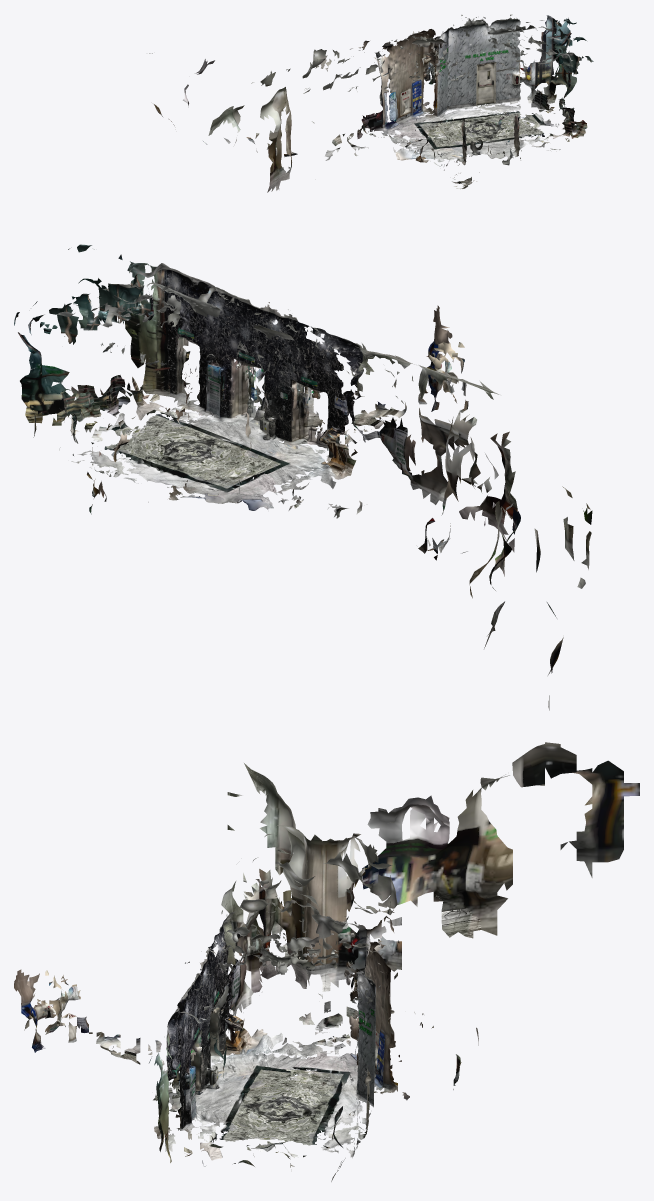
The model's file is 147430-tower2a-tex.glb.
3 views of the same model, one above another, from view 1: azimuth 30°, elevation 25°; view 2: azimuth 150°, elevation 25°; view 3: azimuth 270°, elevation 25° (orthographic). The views are drawn at different scales.
Parts seen in each view (by area): view 1: Node; view 2: Node; view 3: Node.
Part boxes in pixels (x1,y1,x2,y2): Node: (149, 14, 593, 192); Node: (14, 244, 592, 710); Node: (14, 742, 639, 1181).
Size of the model in its own units: 26.09 by 6.35 by 19.48.
Materials: 12 (12 with a texture image).
